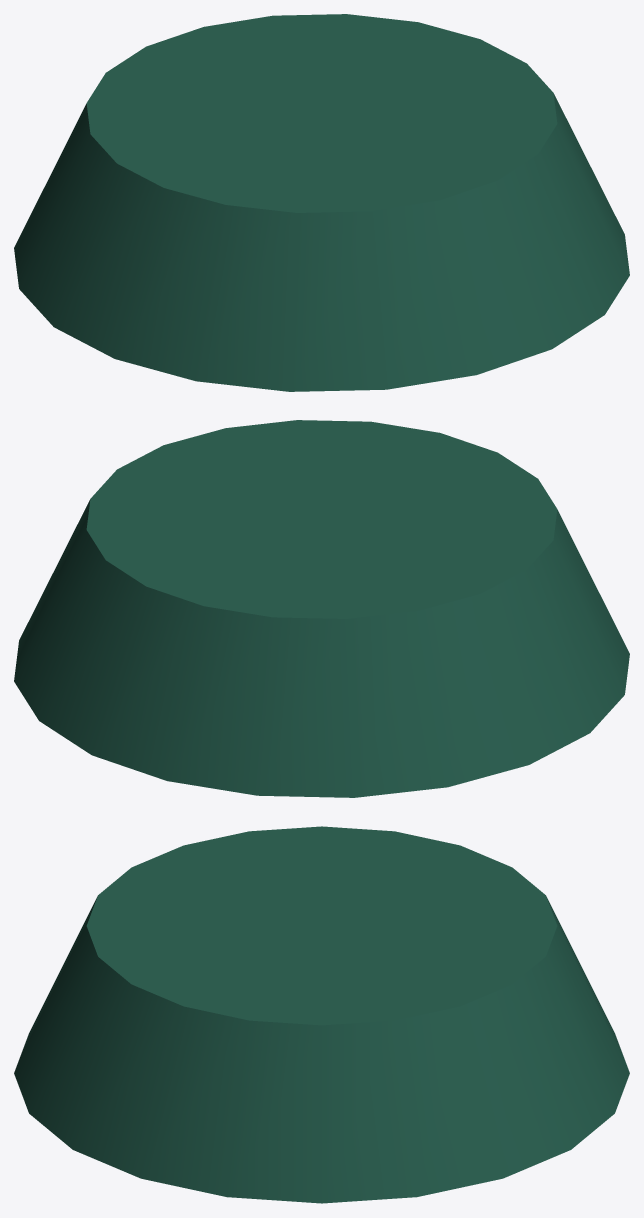
The model's file is bulb.fbx.
3 renders of one model, top to bottom at view 1: azimuth 30°, elevation 25°; view 2: azimuth 150°, elevation 25°; view 3: azimuth 270°, elevation 25°, orthographic.
Visible parts, largest first — view 1: bulb; view 2: bulb; view 3: bulb.
Part boxes in pixels (box(x1,y1,x2,y2)): bulb: box(14, 14, 629, 391); bulb: box(14, 420, 629, 797); bulb: box(14, 826, 629, 1203).
Size of the model in its own units: 73.99 by 19.54 by 73.99.
